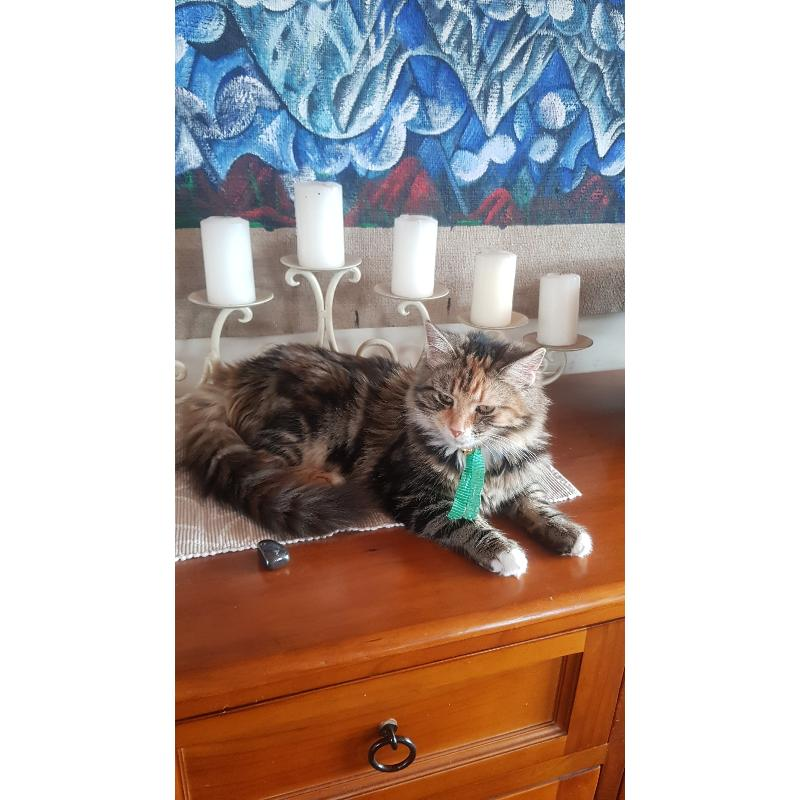red: (179, 321, 591, 577)
